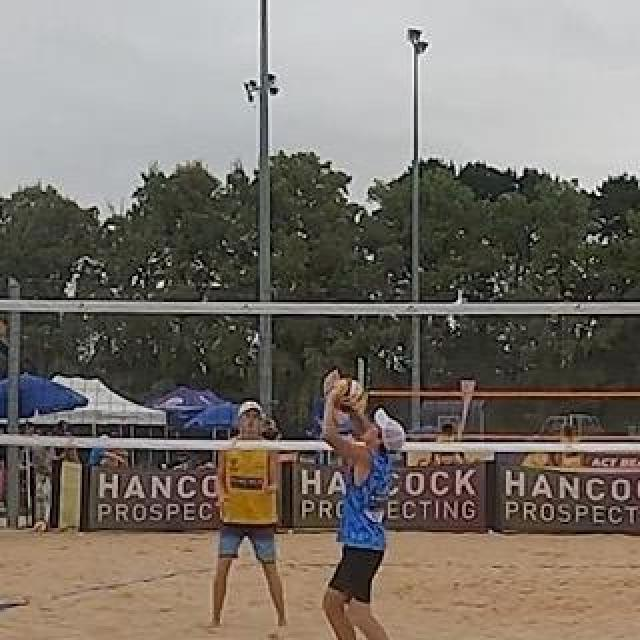volleyball: (329, 379, 365, 415)
